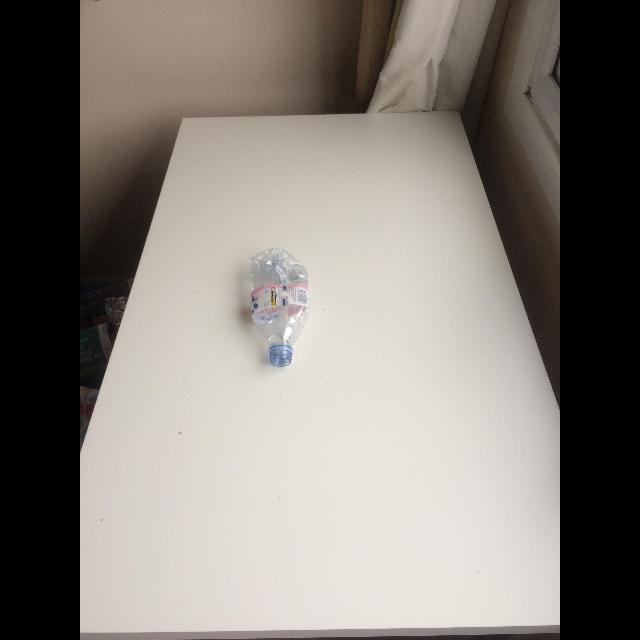Plastic: (250, 248, 308, 366)
